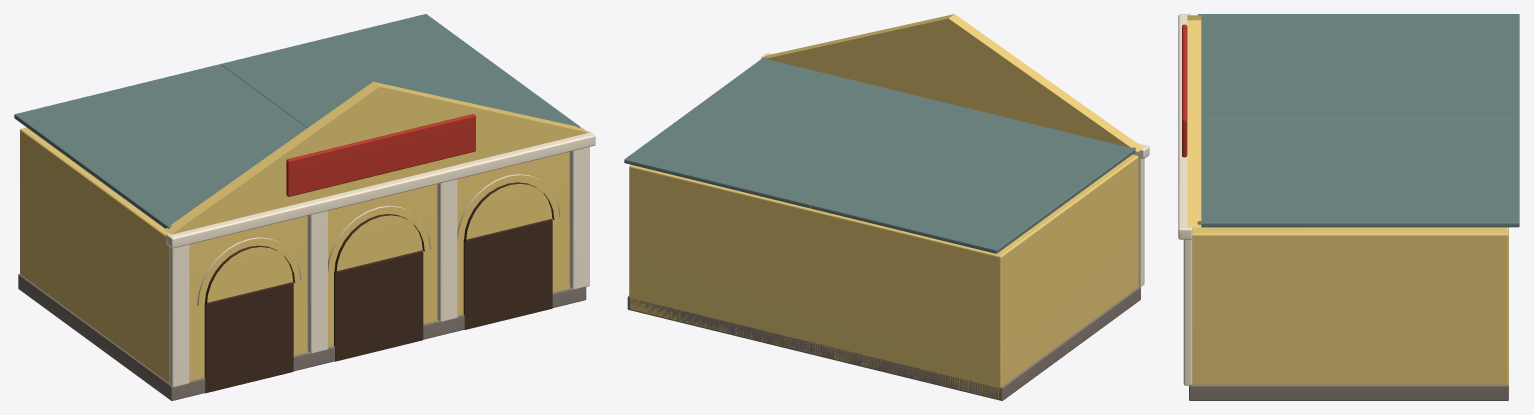
The model's file is market_hall.glb.
3 views of the same model, side by side, from view 1: azimuth 30°, elevation 25°; view 2: azimuth 150°, elevation 25°; view 3: azimuth 270°, elevation 25° (orthographic). The views are drawn at different scales.
Visible parts, largest first — view 1: Body, Roof-1, Roof1, Gable, Door1, Door2, Door0, SignBoard, Cornice, Plinth, Col-0.1, Col9.0 (+2 smaller); view 2: Body, Roof-1, Roof1, Gable, Plinth, Col-0.1; view 3: Body, Roof1, Roof-1, Plinth, Gable, Cornice, Col13.5, SignBoard.
Part boxes in pixels (left/top/right/bottom): Body: left=20, top=127, right=570, bottom=382; Roof-1: left=14, top=64, right=306, bottom=228; Roof1: left=220, top=14, right=580, bottom=128; Gable: left=164, top=81, right=588, bottom=234; Door1: left=334, top=250, right=423, bottom=361; Door2: left=463, top=219, right=552, bottom=329; Door0: left=204, top=282, right=293, bottom=393; SignBoard: left=286, top=114, right=475, bottom=196; Cornice: left=166, top=131, right=595, bottom=248; Plinth: left=18, top=274, right=586, bottom=400; Col-0.1: left=169, top=244, right=189, bottom=387; Col9.0: left=437, top=179, right=457, bottom=322; Body: left=629, top=154, right=1138, bottom=398; Roof-1: left=810, top=103, right=1135, bottom=253; Roof1: left=624, top=57, right=948, bottom=208; Gable: left=760, top=14, right=1143, bottom=152; Plinth: left=627, top=286, right=1140, bottom=400; Col-0.1: left=1138, top=157, right=1144, bottom=286; Body: left=1192, top=227, right=1508, bottom=384; Roof1: left=1197, top=118, right=1519, bottom=227; Roof-1: left=1198, top=14, right=1519, bottom=118; Plinth: left=1189, top=384, right=1508, bottom=400; Gable: left=1187, top=15, right=1201, bottom=227; Cornice: left=1178, top=14, right=1192, bottom=239; Col13.5: left=1183, top=239, right=1192, bottom=385; SignBoard: left=1182, top=24, right=1187, bottom=157.
Bounding box in the file's own units: 14.4 × 8.6 × 9.65.
